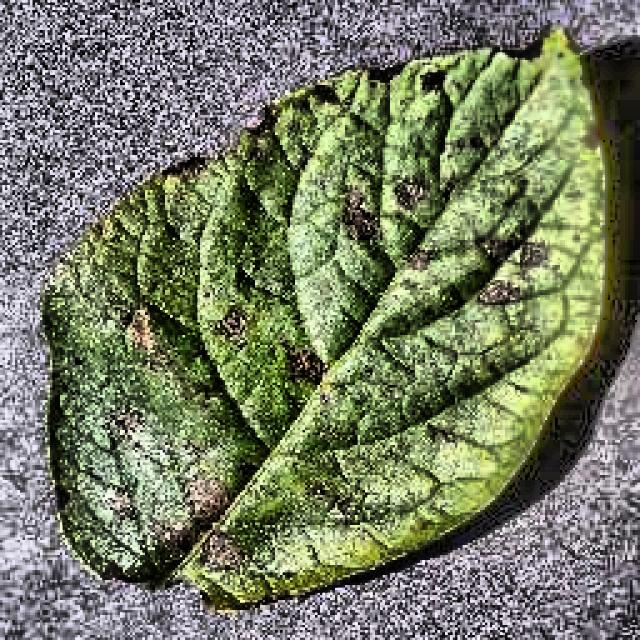Potato_leaf_early_blight: (45, 30, 605, 605)
